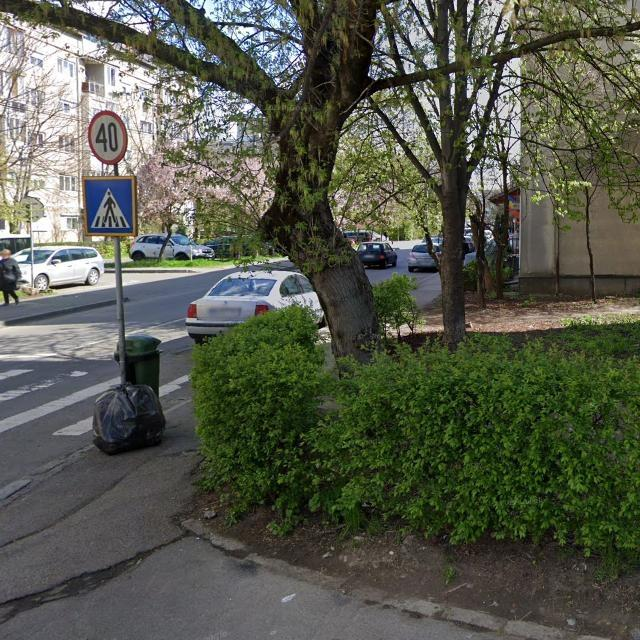forb_speed_over_40: (89, 110, 128, 165)
info_crosswalk: (83, 175, 137, 236)
